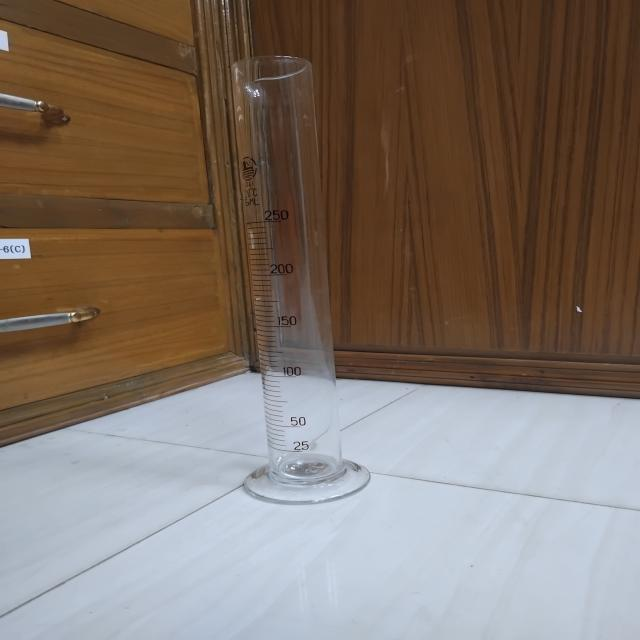Measuring_Cylinder: (188, 25, 413, 526)
